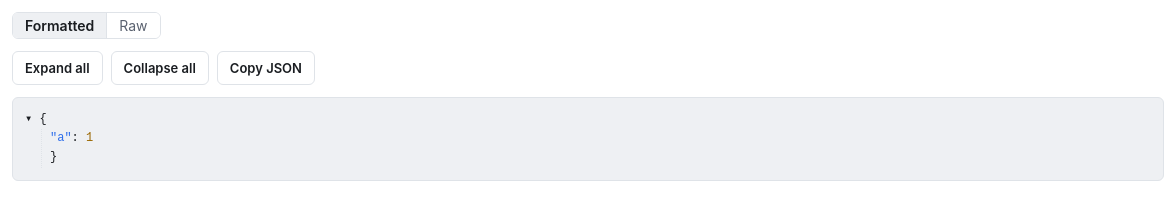
Scenario: JsonView › switches to the raw view on toggle
The image size is (1164, 198).
Click the button "Raw" at coordinates (133, 26), box [107,13,160,38]
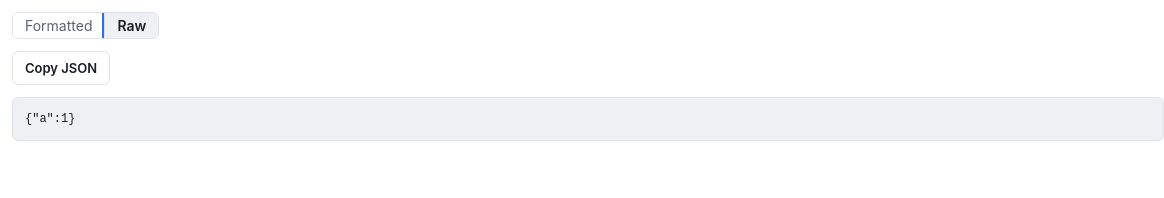
Expected: the text "{\"a\":1}" is shown, [12,97,1163,141]
